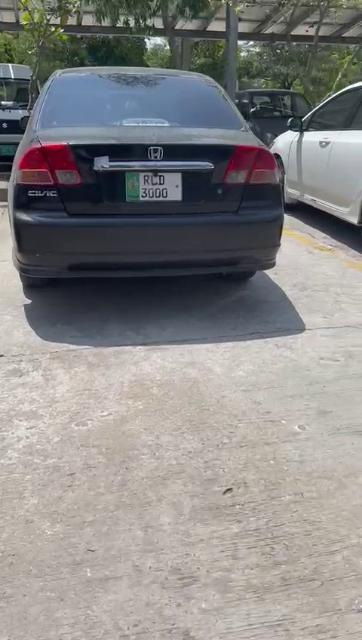plate: (126, 172, 182, 202)
